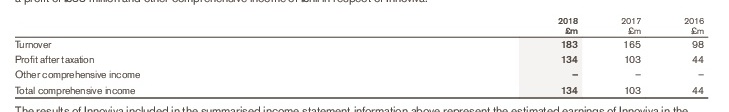table: (0, 0, 729, 112)
